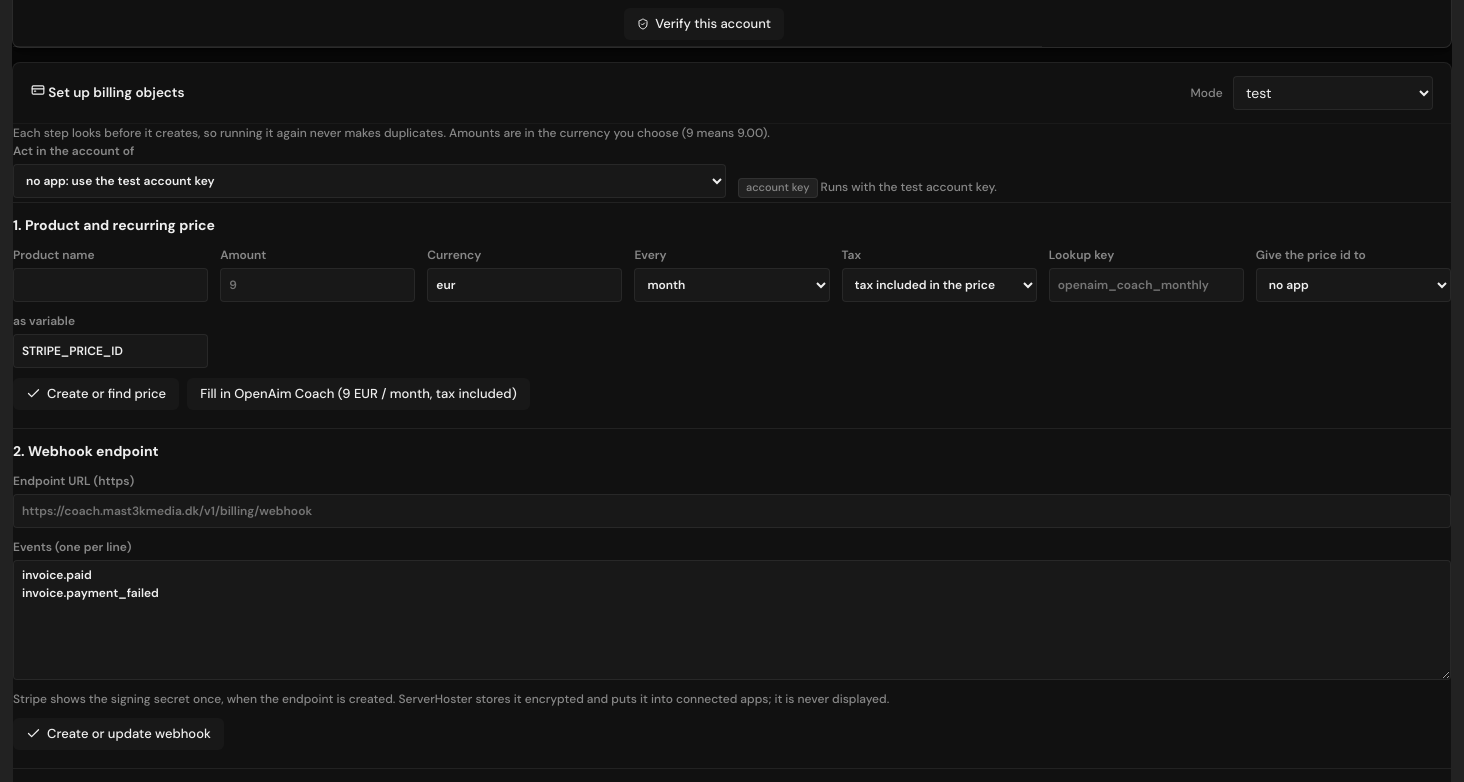
Test: Stripe page › fills the OpenAim Coach preset into the price form
The image size is (1464, 782).
(page scrolled)
What coordinates should you click on to do the following:
click the button "Fill in OpenAim Coach (9 EUR / month, tax included)"
I would click on:
 (358, 394)
Its box is [187,378,530,410].
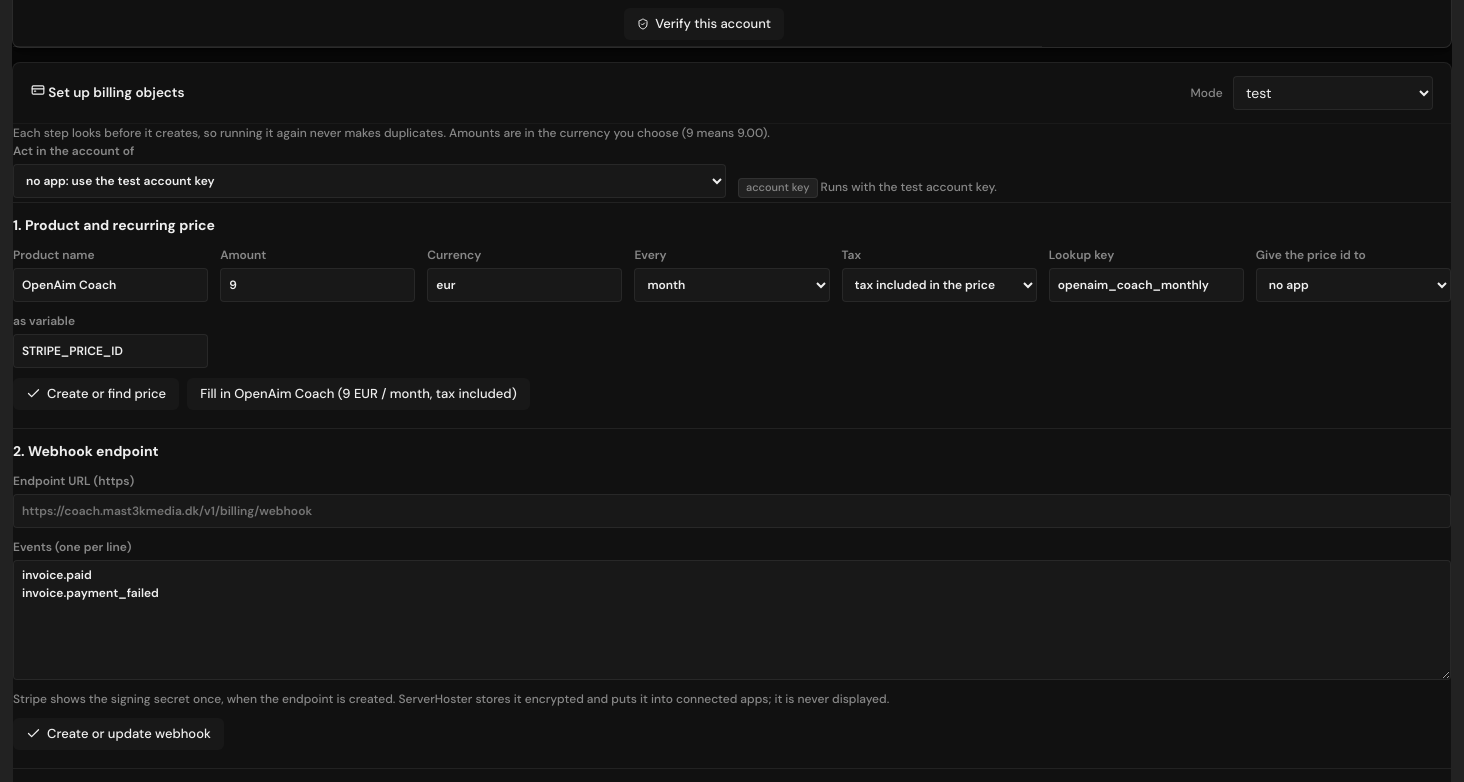
Expected: the field labelled "Product name" holds "OpenAim Coach", [13,268,208,302]
Expected: the field labelled "Amount" holds "9", [220,268,415,302]
Expected: the field labelled "Lookup key" holds "openaim_coach_monthly", [1049,268,1244,302]
